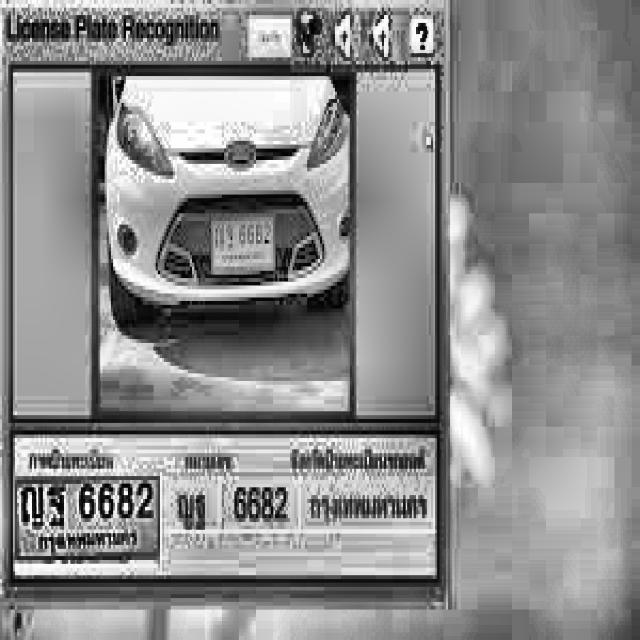license-plate: (16, 476, 159, 559), (214, 219, 274, 270)
